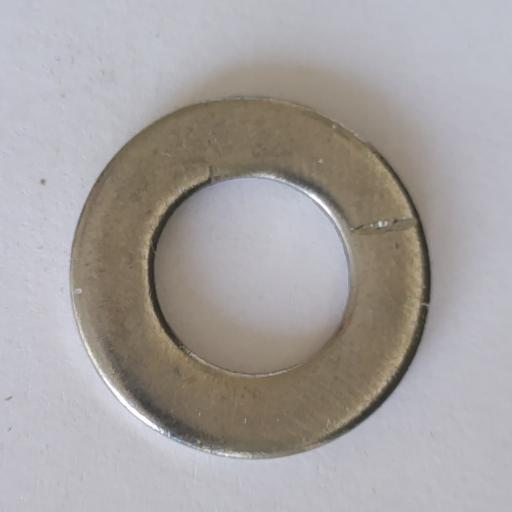scratch: (350, 217, 416, 235)
